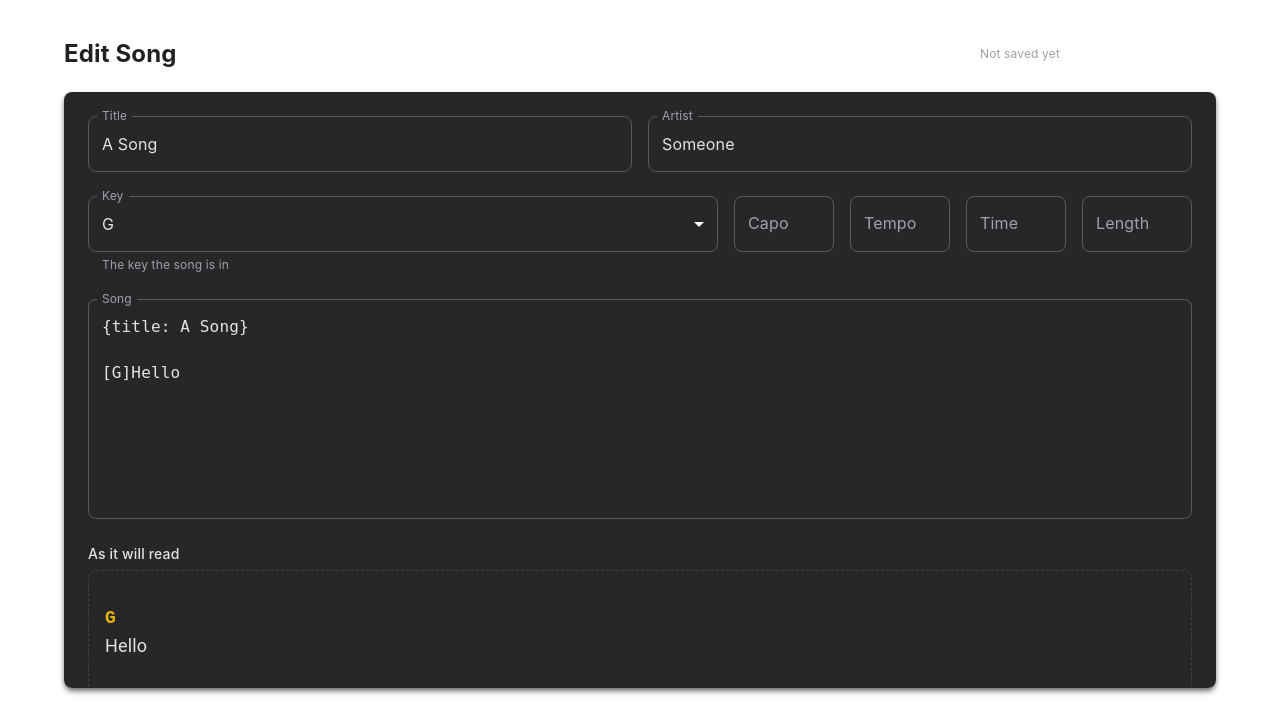
it: the writing desk › puts a chord into the song when it is picked
This screenshot has width=1280, height=720.
Replace the text in the text box labelled "Song" with "[G]Hello ": (640, 350) 102,315 -> 1178,384
(page scrolled)
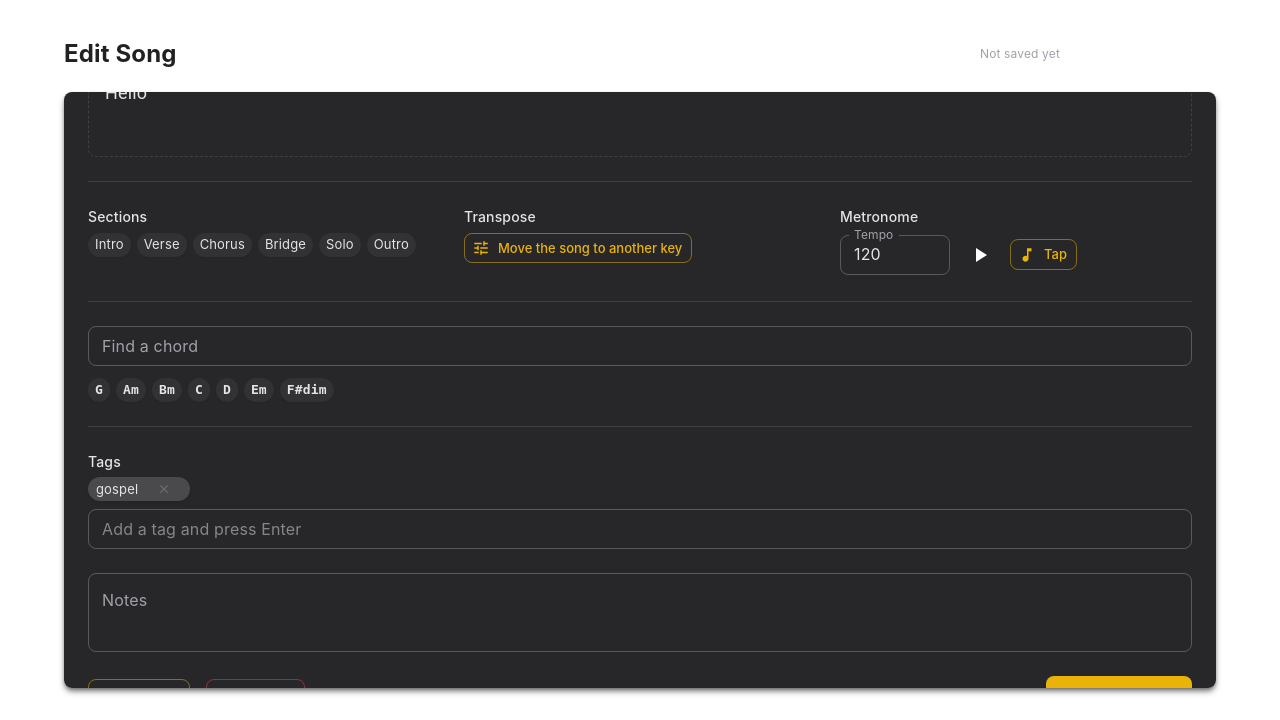
Click the button "Am": (131, 390) 116,378 -> 146,402
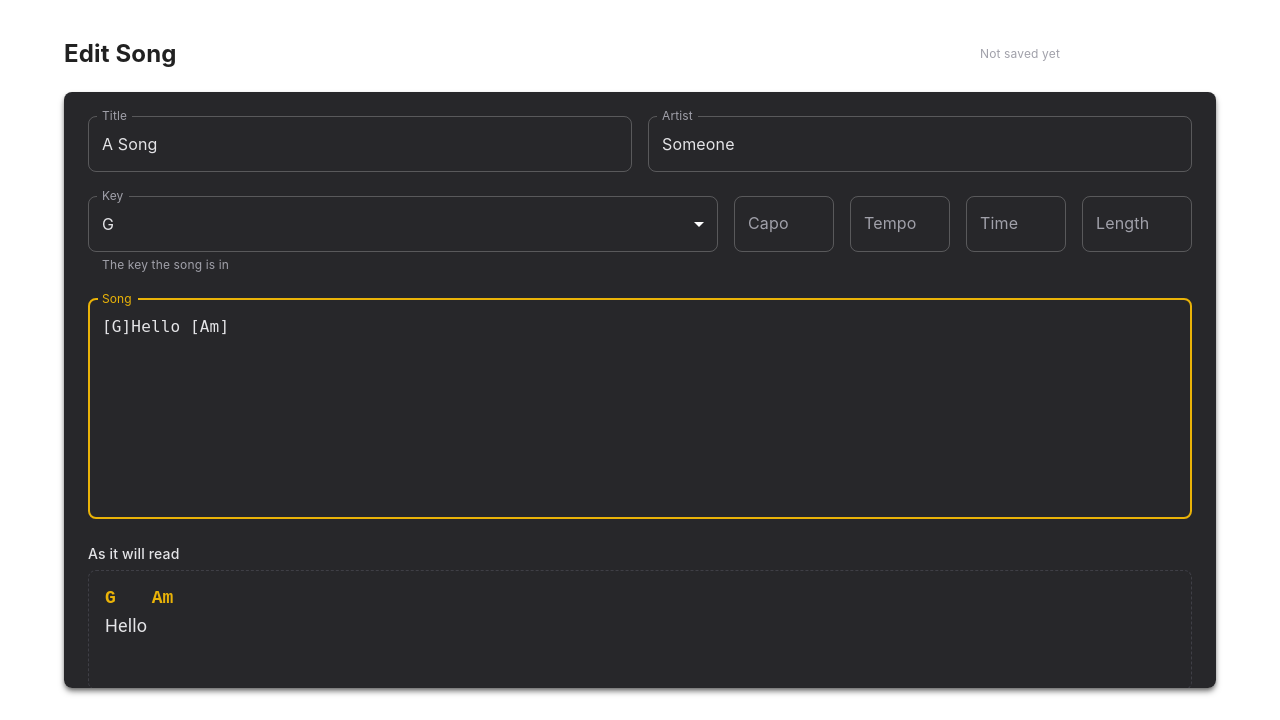
Check: the text box labelled "Song" holds "[G]Hello [Am]", box 102,315 -> 1178,338
